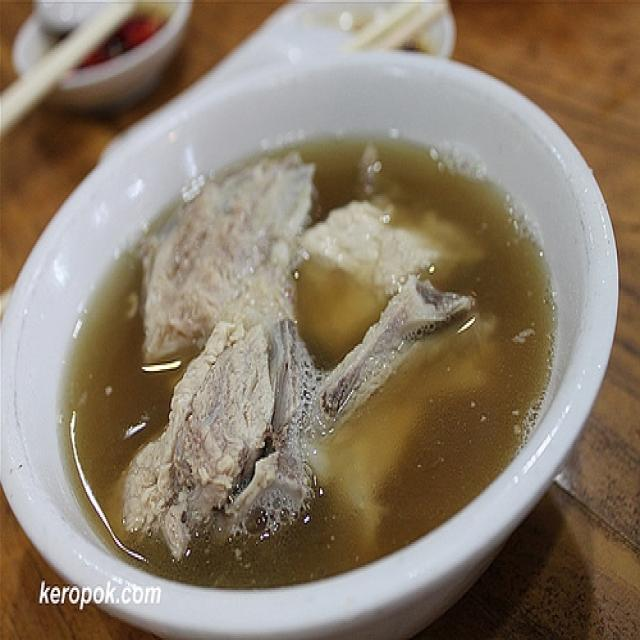汤锅炖物: (37, 92, 594, 592)
